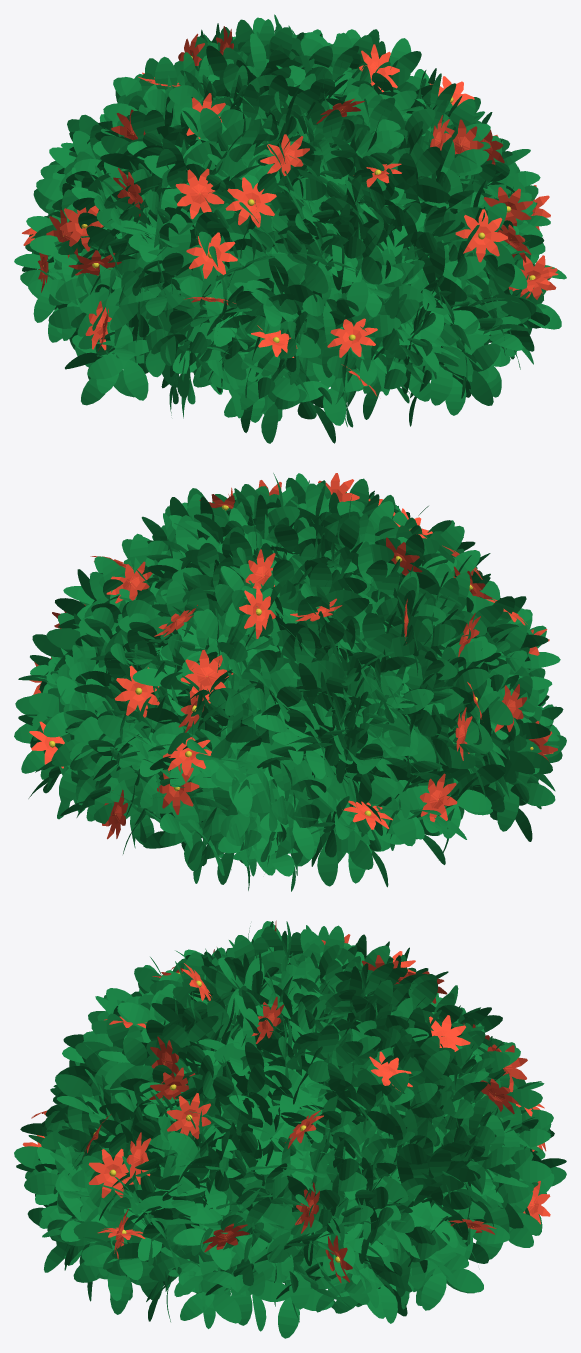
Rendered from BushFlowers.fbx.
The picture shows the model from 3 angles, top to bottom: view 1: azimuth 30°, elevation 25°; view 2: azimuth 150°, elevation 25°; view 3: azimuth 270°, elevation 25°; orthographic projection. The views are drawn at different scales.
Parts seen in each view (by area): view 1: BushWFlowers; view 2: BushWFlowers; view 3: BushWFlowers.
Boxes of the visible parts, <box> form: BushWFlowers: <box>14,14,566,443</box>; BushWFlowers: <box>14,473,566,891</box>; BushWFlowers: <box>14,920,566,1338</box>.
Size of the model in its own units: 260 by 159 by 265.
